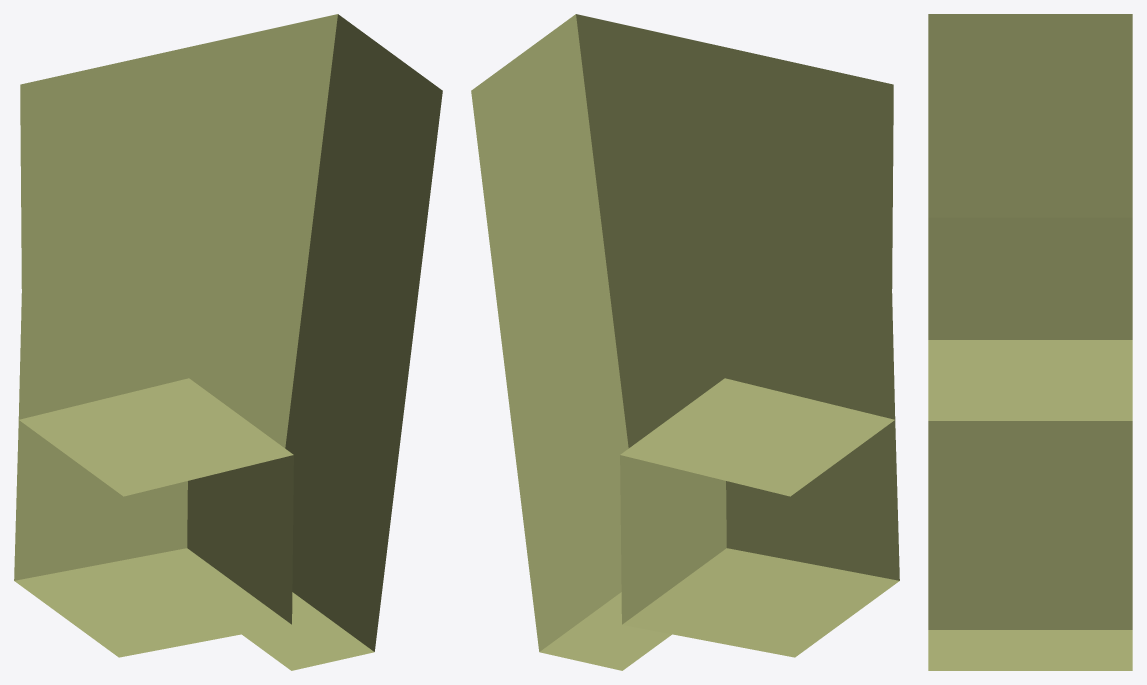
The picture shows the model from 3 angles, left to right: view 1: azimuth 30°, elevation 25°; view 2: azimuth 150°, elevation 25°; view 3: azimuth 270°, elevation 25°; orthographic projection. The views are drawn at different scales.
Visible parts, largest first — view 1: 0_0_3_1_2_0_3_0_2_2; view 2: 0_0_3_1_2_0_3_0_2_2; view 3: 0_0_3_1_2_0_3_0_2_2.
Part boxes in pixels (x1=…): 0_0_3_1_2_0_3_0_2_2: x1=14, y1=14, x2=442, y2=670; 0_0_3_1_2_0_3_0_2_2: x1=471, y1=14, x2=899, y2=670; 0_0_3_1_2_0_3_0_2_2: x1=928, y1=14, x2=1132, y2=670.
Bounding box in the file's own units: 10.7 × 17.42 × 6.
